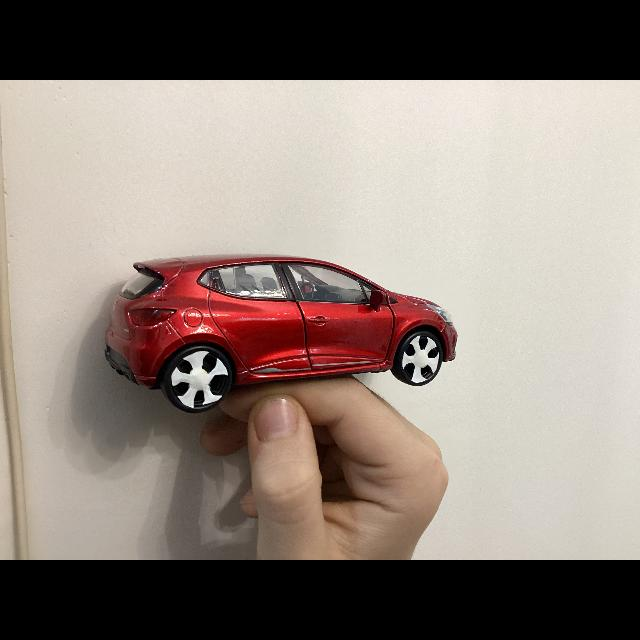Yanlis_Jant: (170, 350, 230, 410), (402, 334, 441, 384)
